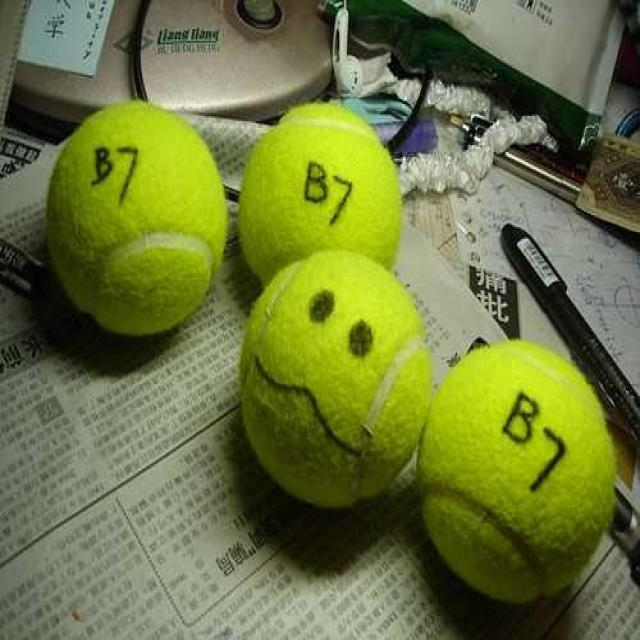Tennis_Ball: (421, 340, 618, 602), (245, 247, 426, 504), (46, 102, 225, 338), (244, 101, 394, 279)
